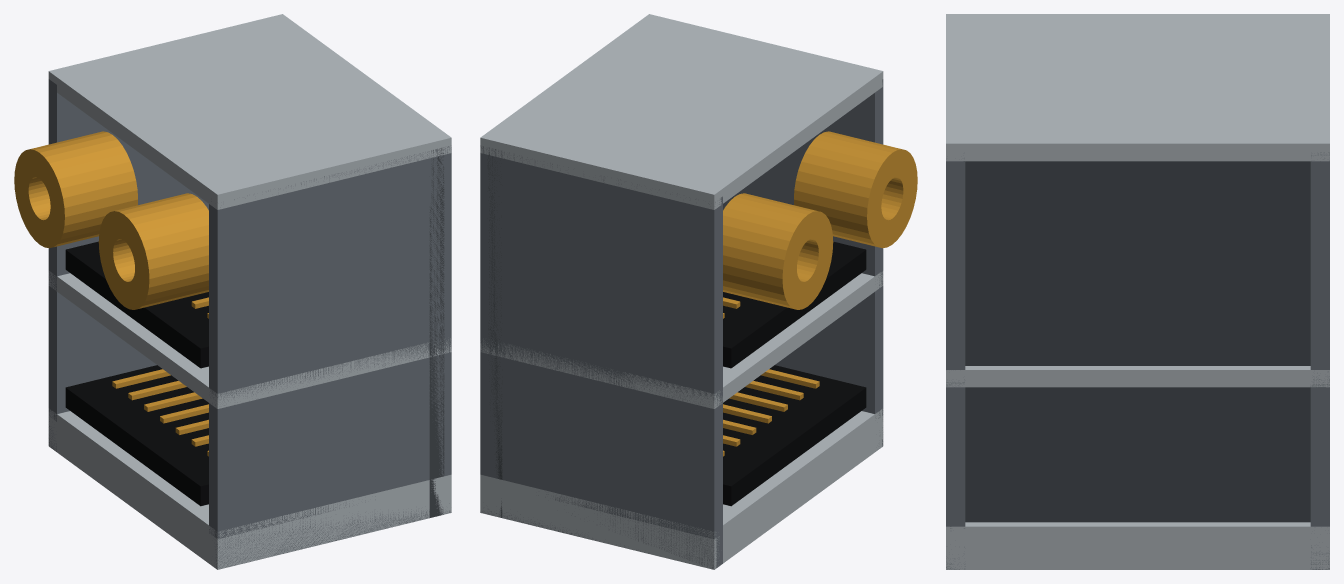
Rendered from L131_ANTENNA_USB2.fbx.
3 views of the same model, side by side, from view 1: azimuth 30°, elevation 25°; view 2: azimuth 150°, elevation 25°; view 3: azimuth 270°, elevation 25° (orthographic). The views are drawn at different scales.
Visible parts, largest first — view 1: ANTENNA_USB2_Steel, ANTENNA_USB2_Silver, ANTENNA_USB2_Gold, ANTENNA_USB2_Black, ANTENNA_USB2_Gray; view 2: ANTENNA_USB2_Steel, ANTENNA_USB2_Silver, ANTENNA_USB2_Gold, ANTENNA_USB2_Black, ANTENNA_USB2_Gray; view 3: ANTENNA_USB2_Gray, ANTENNA_USB2_Silver, ANTENNA_USB2_Steel.
Part boxes in pixels (left/top/right/bottom): ANTENNA_USB2_Steel: left=48, top=79, right=451, bottom=569; ANTENNA_USB2_Silver: left=48, top=14, right=451, bottom=569; ANTENNA_USB2_Gold: left=14, top=131, right=208, bottom=456; ANTENNA_USB2_Black: left=65, top=241, right=208, bottom=506; ANTENNA_USB2_Gray: left=429, top=148, right=444, bottom=517; ANTENNA_USB2_Steel: left=480, top=79, right=883, bottom=569; ANTENNA_USB2_Silver: left=480, top=14, right=883, bottom=569; ANTENNA_USB2_Gold: left=723, top=131, right=917, bottom=456; ANTENNA_USB2_Black: left=723, top=241, right=866, bottom=506; ANTENNA_USB2_Gray: left=487, top=154, right=502, bottom=517; ANTENNA_USB2_Gray: left=965, top=161, right=1310, bottom=522; ANTENNA_USB2_Silver: left=946, top=14, right=1329, bottom=569; ANTENNA_USB2_Steel: left=946, top=152, right=1329, bottom=569.
Bounding box in the file's own units: 1.95 × 2.45 × 2.
